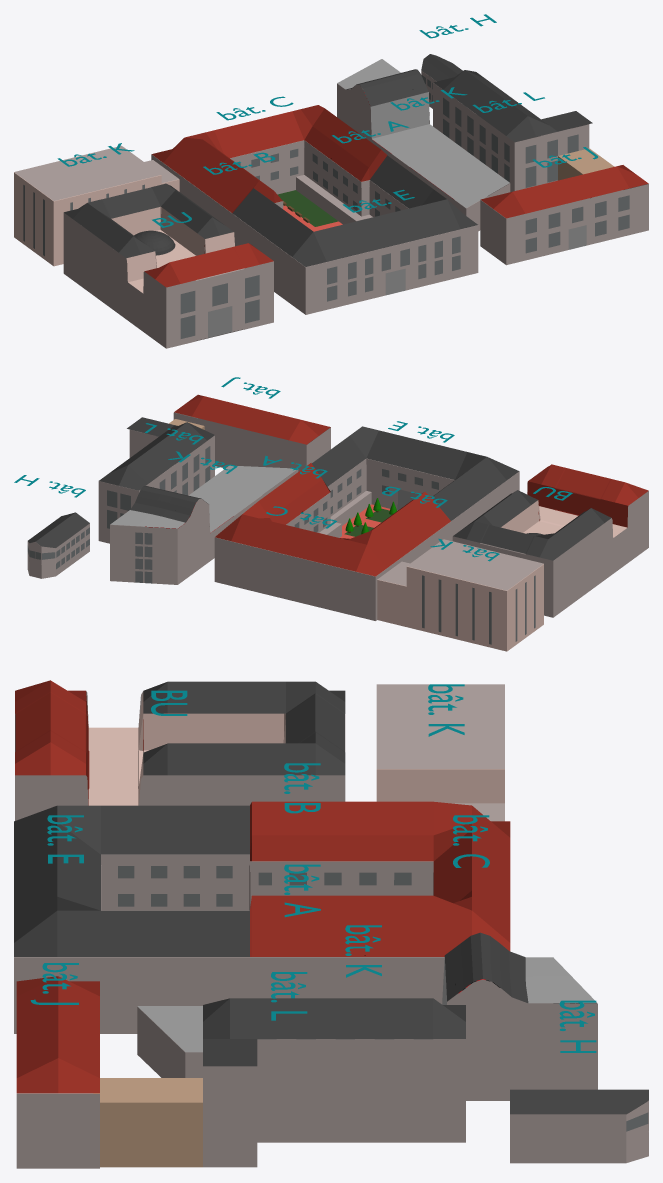
Rendered from bat.glb.
The picture shows the model from 3 angles, top to bottom: view 1: azimuth 30°, elevation 25°; view 2: azimuth 150°, elevation 25°; view 3: azimuth 270°, elevation 25°; orthographic projection. The views are drawn at different scales.
Visible parts, largest first — view 1: toits, Bâtiment principal, Cube.001, Cube.005, Cube.006, Cube, Cube.004, sol fac; view 2: toits, Bâtiment principal, Cube, Cube.004, Cube.001, Cube.006, Cube.005, Cube.007, sol fac; view 3: toits, Cube.006, Bâtiment principal, Cube.004, Cube.001, Cube.007, Cube.005, Cube, Texte.003, Texte.007, Texte.001, Texte.006 (+3 smaller).
Boxes of the visible parts, left/top/right/bottom form: toits: left=14, top=54, right=648, bottom=293; Bâtiment principal: left=151, top=140, right=478, bottom=314; Cube.001: left=63, top=213, right=273, bottom=348; Cube.005: left=480, top=184, right=648, bottom=265; Cube.006: left=433, top=82, right=622, bottom=198; Cube: left=14, top=172, right=179, bottom=266; Cube.004: left=337, top=83, right=510, bottom=231; sol fac: left=277, top=190, right=342, bottom=231; toits: left=28, top=394, right=648, bottom=590; Bâtiment principal: left=214, top=458, right=519, bottom=620; Cube: left=377, top=564, right=543, bottom=651; Cube.004: left=110, top=469, right=298, bottom=584; Cube.001: left=452, top=483, right=648, bottom=617; Cube.006: left=98, top=419, right=214, bottom=543; Cube.005: left=173, top=412, right=330, bottom=471; Cube.007: left=27, top=523, right=89, bottom=578; sol fac: left=340, top=498, right=397, bottom=538; toits: left=14, top=680, right=648, bottom=1114; Cube.006: left=93, top=1039, right=465, bottom=1167; Bâtiment principal: left=14, top=854, right=444, bottom=1033; Cube.004: left=137, top=979, right=597, bottom=1100; Cube.001: left=15, top=691, right=345, bottom=820; Cube.007: left=510, top=1100, right=648, bottom=1163; Cube.005: left=16, top=1093, right=99, bottom=1168; Cube: left=376, top=769, right=504, bottom=803; Texte.003: left=284, top=763, right=320, bottom=813; Texte.007: left=559, top=1000, right=596, bottom=1052; Texte.001: left=428, top=684, right=464, bottom=736; Texte.006: left=345, top=925, right=381, bottom=977.
Size of the model in its own units: 17.59 by 2.69 by 12.02.
